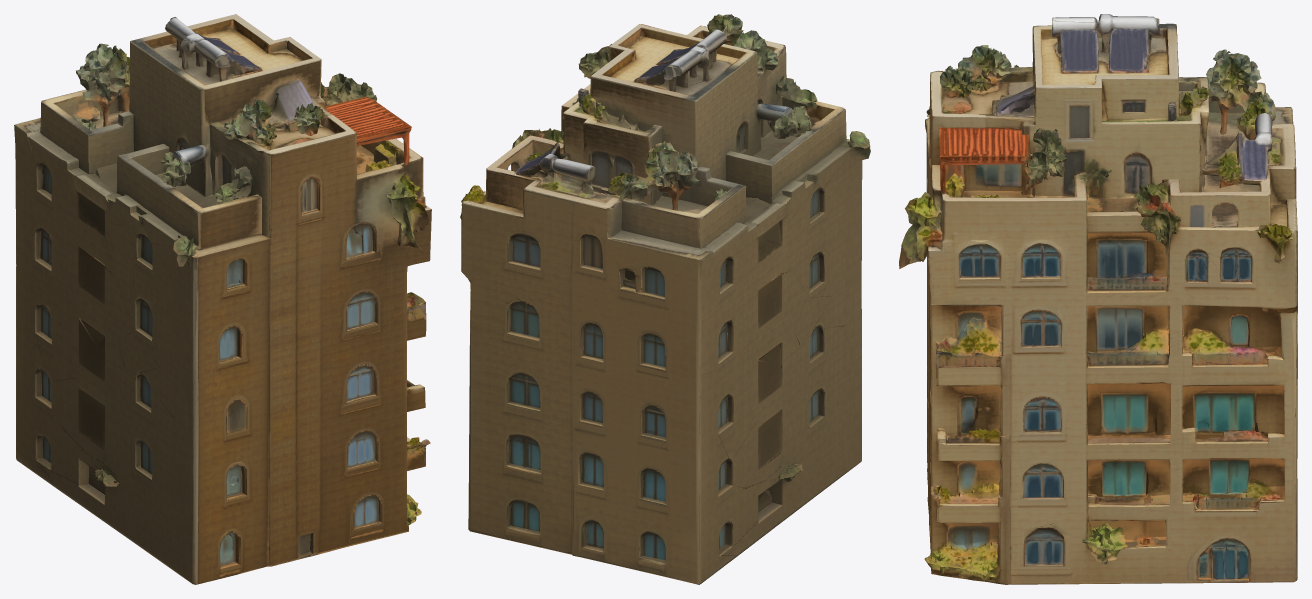
Rendered from jer_apartment_b.glb.
3 views of the same model, side by side, from view 1: azimuth 30°, elevation 25°; view 2: azimuth 150°, elevation 25°; view 3: azimuth 270°, elevation 25° (orthographic). The views are drawn at different scales.
Parts seen in each view (by area): view 1: geometry_0; view 2: geometry_0; view 3: geometry_0.
Boxes of the visible parts, box(x1,y1,x2,y2) form: geometry_0: box(14, 14, 431, 584); geometry_0: box(460, 14, 870, 584); geometry_0: box(899, 14, 1297, 584).
Size of the model in its own units: 12.43 by 20 by 14.74.
Materials: 1 (1 with a texture image).
